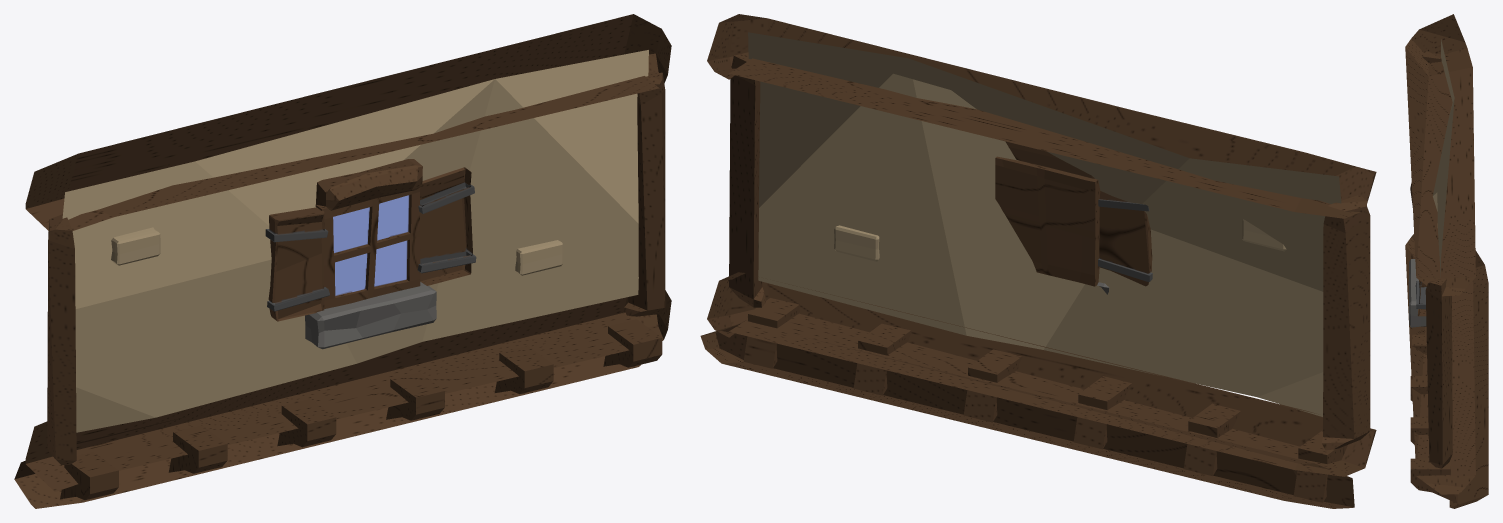
File: second_story_window.glb
The picture shows the model from 3 angles, left to right: view 1: azimuth 30°, elevation 25°; view 2: azimuth 150°, elevation 25°; view 3: azimuth 270°, elevation 25°; orthographic projection. The views are drawn at different scales.
Visible parts, largest first — view 1: second_story_window; view 2: second_story_window; view 3: second_story_window.
Boxes of the visible parts, left/top/right/bottom form: second_story_window: left=14, top=14, right=671, bottom=508; second_story_window: left=700, top=14, right=1376, bottom=508; second_story_window: left=1405, top=14, right=1488, bottom=508.
Bounding box in the file's own units: 12.31 × 6.47 × 1.81.
6 materials, 6 textured.
